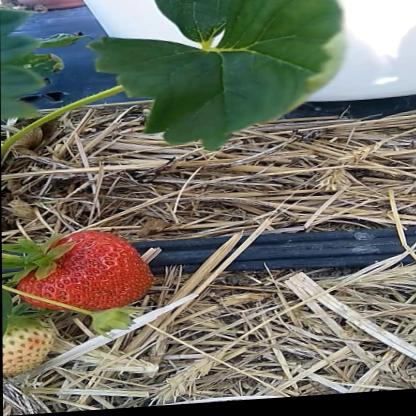ripe: (12, 229, 158, 320)
unripe: (2, 303, 65, 385)
